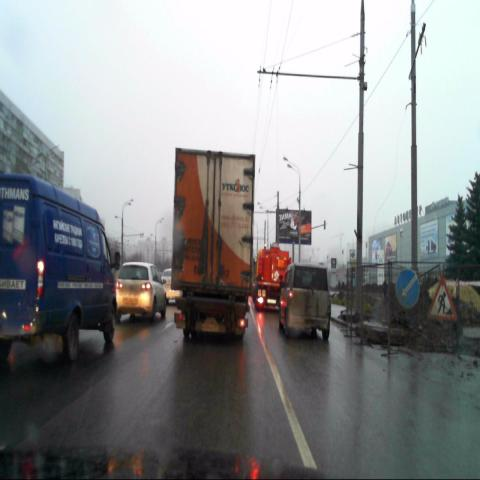4_2_2: (396, 268, 420, 309)
